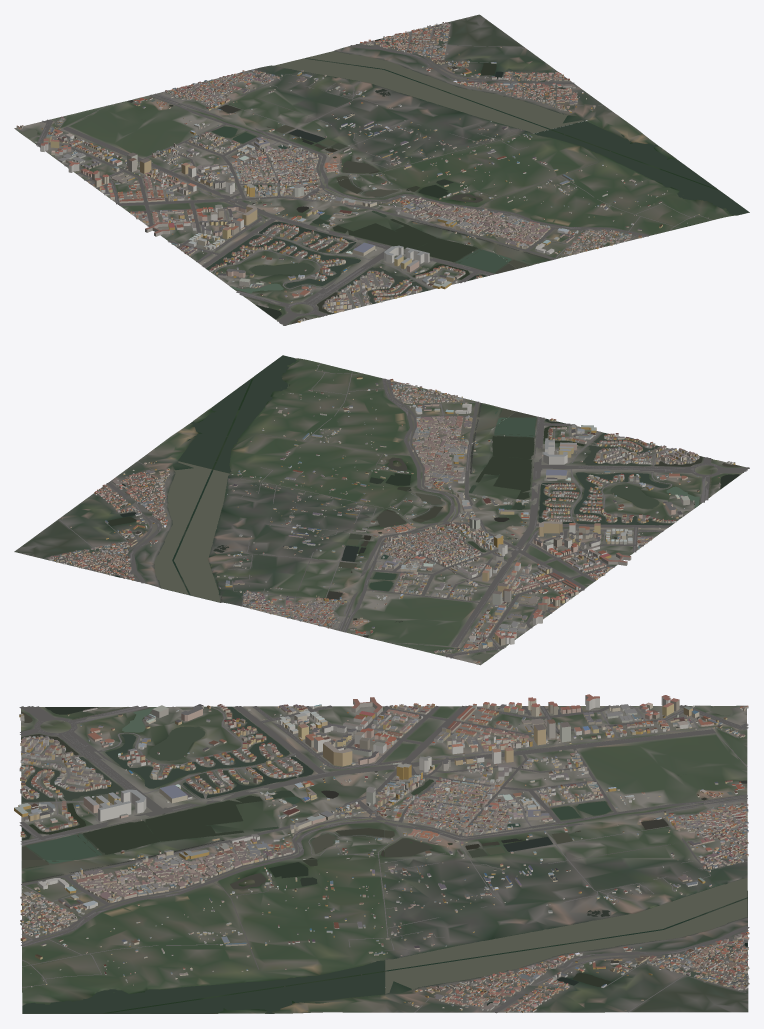
3 views of the same model, one above another, from view 1: azimuth 30°, elevation 25°; view 2: azimuth 150°, elevation 25°; view 3: azimuth 270°, elevation 25° (orthographic). The views are drawn at different scales.
Visible parts, largest first — view 1: ground, buildings, water, roads; view 2: ground, buildings, water, roads; view 3: ground, buildings, water, roads.
Part boxes in pixels (x1=…): ground: x1=14, y1=14, x2=749, y2=325; buildings: x1=16, y1=22, x2=708, y2=322; water: x1=19, y1=39, x2=748, y2=323; roads: x1=15, y1=22, x2=712, y2=325; ground: x1=14, y1=358, x2=747, y2=665; buildings: x1=47, y1=365, x2=735, y2=664; water: x1=107, y1=355, x2=741, y2=661; roads: x1=44, y1=363, x2=749, y2=663; ground: x1=21, y1=705, x2=748, y2=1013; buildings: x1=14, y1=694, x2=749, y2=1012; water: x1=21, y1=706, x2=747, y2=1013; roads: x1=19, y1=705, x2=749, y2=1013.
Size of the model in its own units: 2851 by 71.01 by 2842.
